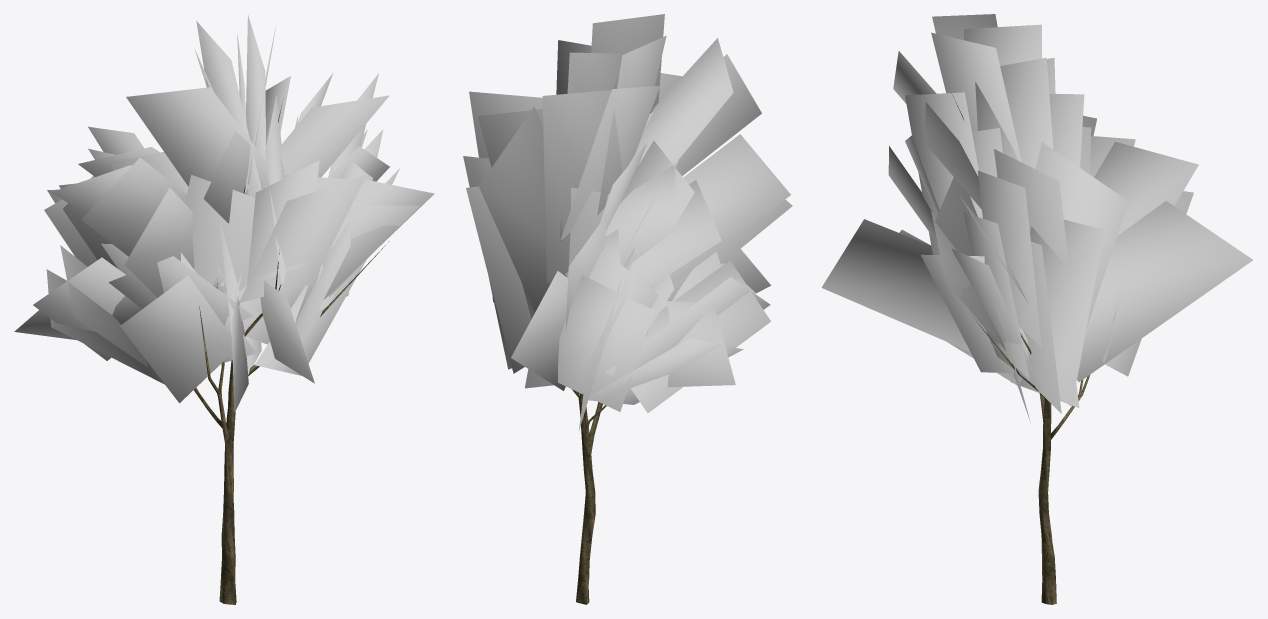
File: Prop_Tree_01.FBX
3 renders of one model, left to right at view 1: azimuth 30°, elevation 25°; view 2: azimuth 150°, elevation 25°; view 3: azimuth 270°, elevation 25°, orthographic. The views are drawn at different scales.
Visible parts, largest first — view 1: 984; view 2: 984; view 3: 984.
Boxes of the visible parts, x1=… form: 984: x1=14, y1=15, x2=434, y2=604; 984: x1=463, y1=14, x2=792, y2=604; 984: x1=821, y1=14, x2=1252, y2=604.
Bounding box in the file's own units: 554 × 904 × 629.
